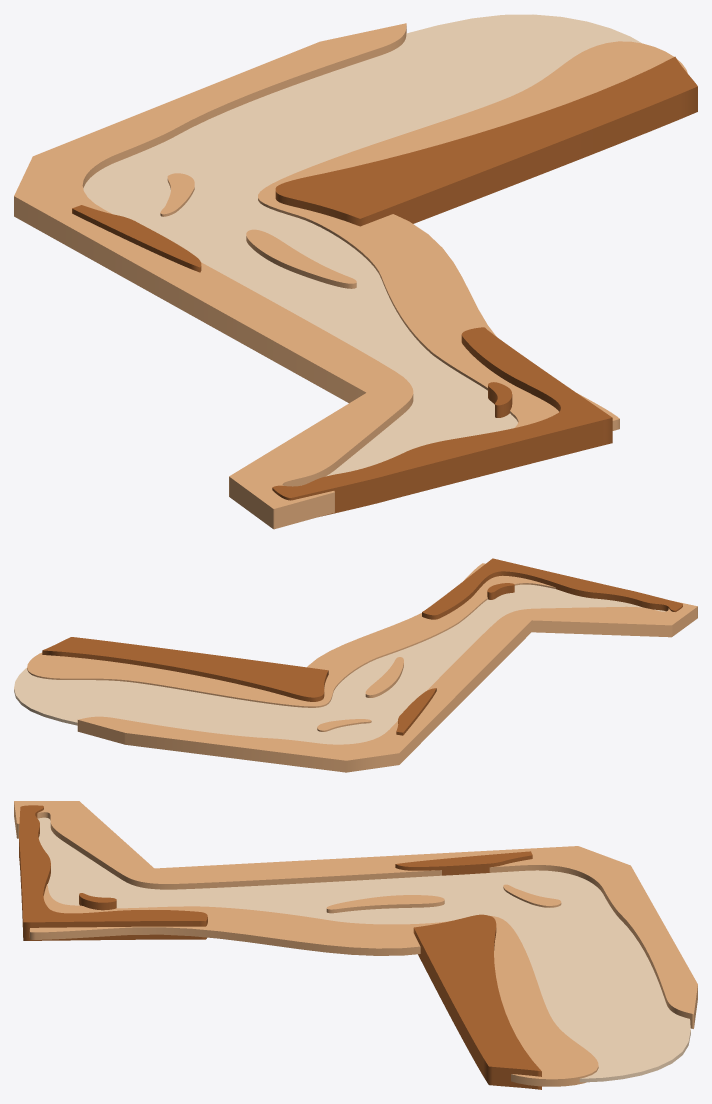
Rendered from emoji_u1f9b5_1f3fb.glb.
3 renders of one model, top to bottom at view 1: azimuth 30°, elevation 25°; view 2: azimuth 150°, elevation 25°; view 3: azimuth 270°, elevation 25°, orthographic. The views are drawn at different scales.
Parts seen in each view (by area): view 1: emoji_u1f9b5_1f3fb; view 2: emoji_u1f9b5_1f3fb; view 3: emoji_u1f9b5_1f3fb.
Part boxes in pixels (left/top/right/bottom): emoji_u1f9b5_1f3fb: left=14, top=14, right=697, bottom=529; emoji_u1f9b5_1f3fb: left=14, top=558, right=697, bottom=772; emoji_u1f9b5_1f3fb: left=14, top=801, right=697, bottom=1089.
Size of the model in its own units: 0.0316 by 0.0012 by 0.0333.
